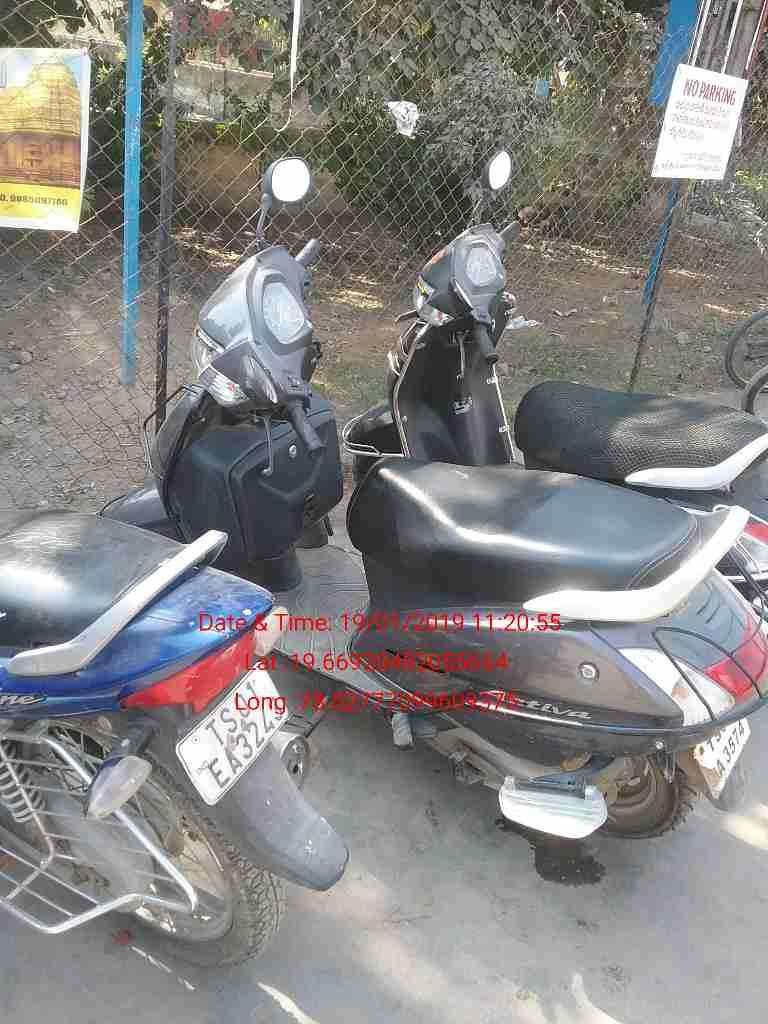plate: (180, 661, 291, 807), (693, 716, 755, 797)
